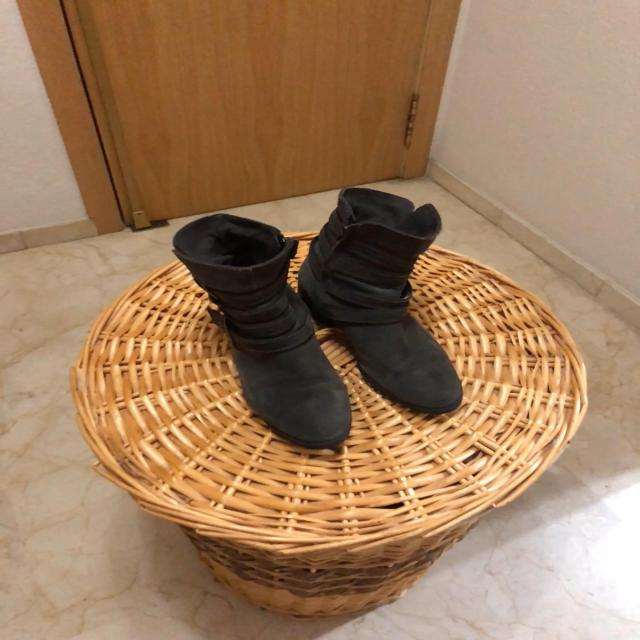shoe: (171, 214, 353, 453), (296, 189, 464, 415)
